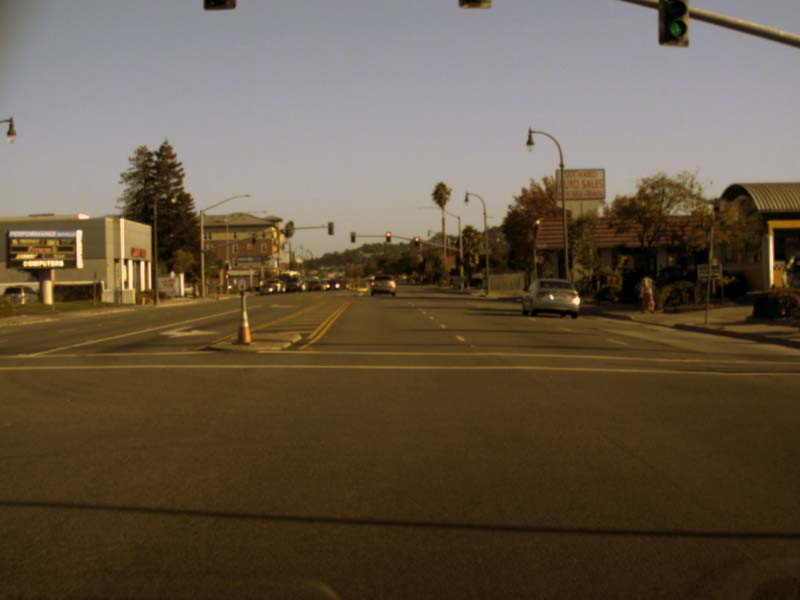Red: (350, 231, 356, 242), (413, 237, 419, 246), (385, 231, 390, 241)
